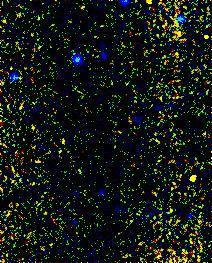star: (177, 162, 207, 192)
